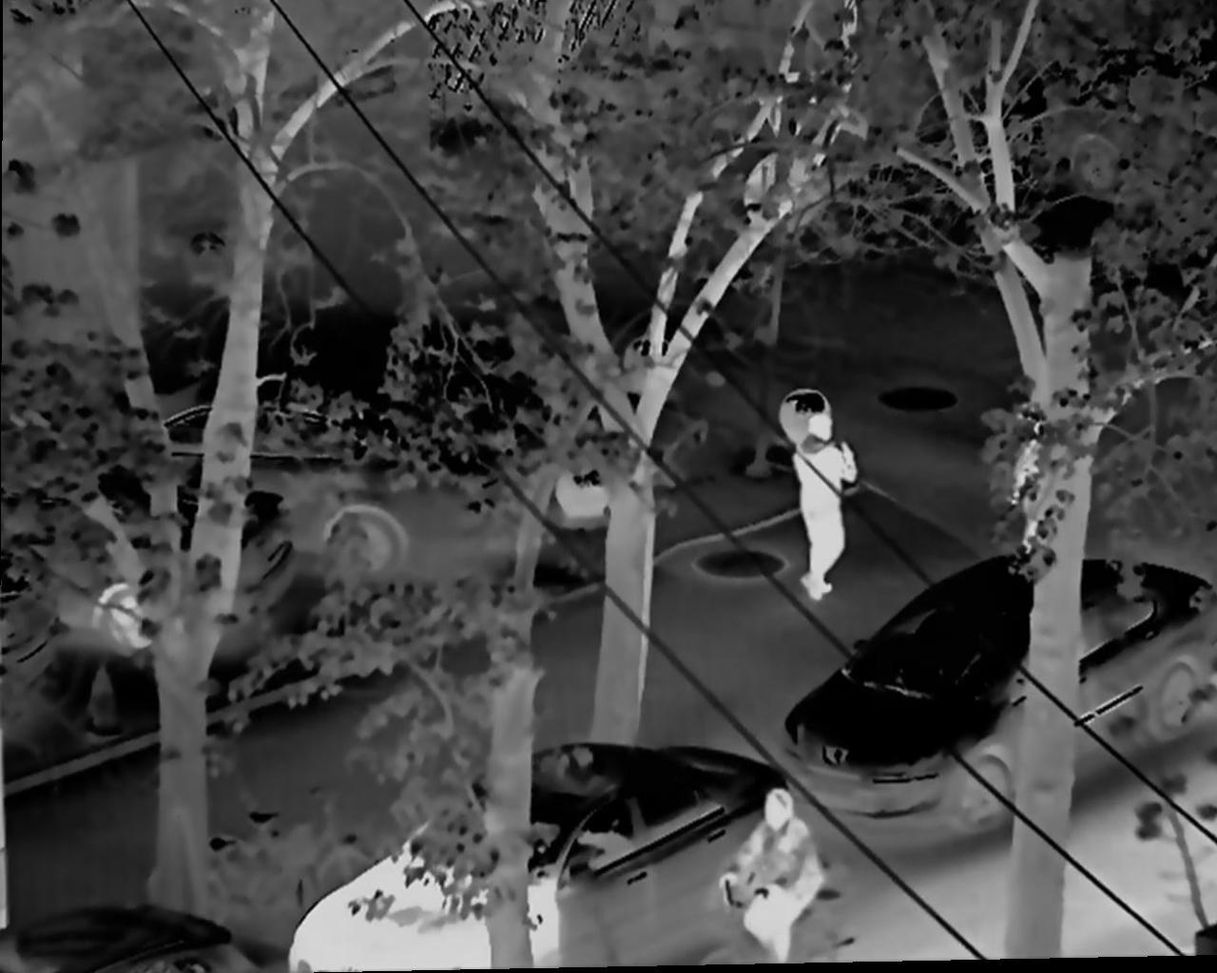person: (715, 779, 829, 961), (790, 403, 857, 616), (995, 391, 1065, 589)
